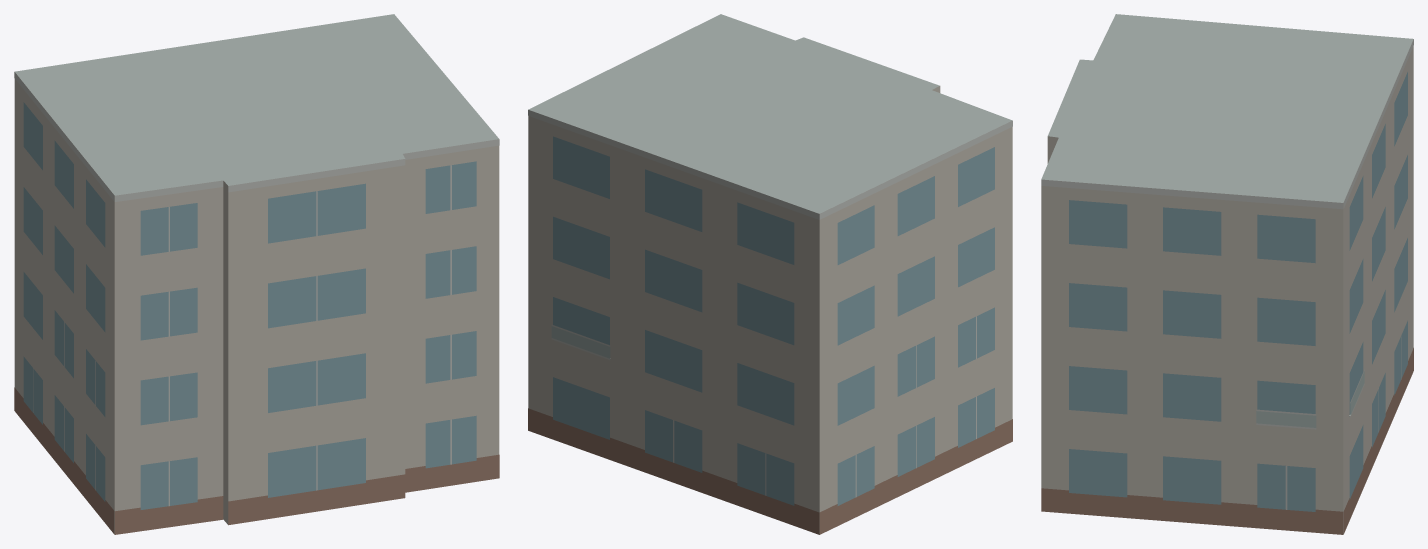
The model's file is survey-upis-32704935.glb.
3 renders of one model, left to right at view 1: azimuth 30°, elevation 25°; view 2: azimuth 150°, elevation 25°; view 3: azimuth 270°, elevation 25°, orthographic. The views are drawn at different scales.
Parts seen in each view (by area): view 1: survey-upis-32704935.tmp; view 2: survey-upis-32704935.tmp; view 3: survey-upis-32704935.tmp.
Boxes of the visible parts, x1,y1,x2,y2 form: survey-upis-32704935.tmp: [14, 14, 499, 534]; survey-upis-32704935.tmp: [528, 14, 1012, 534]; survey-upis-32704935.tmp: [1041, 14, 1413, 534].
Size of the model in its own units: 15.64 by 12.8 by 13.03.
